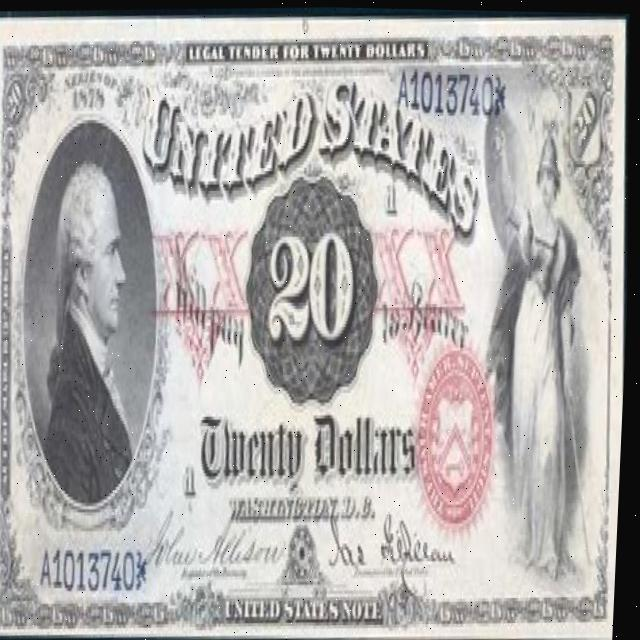banknote: (0, 0, 640, 640), (263, 216, 363, 361), (195, 400, 317, 498), (307, 25, 368, 72), (571, 86, 599, 146)
